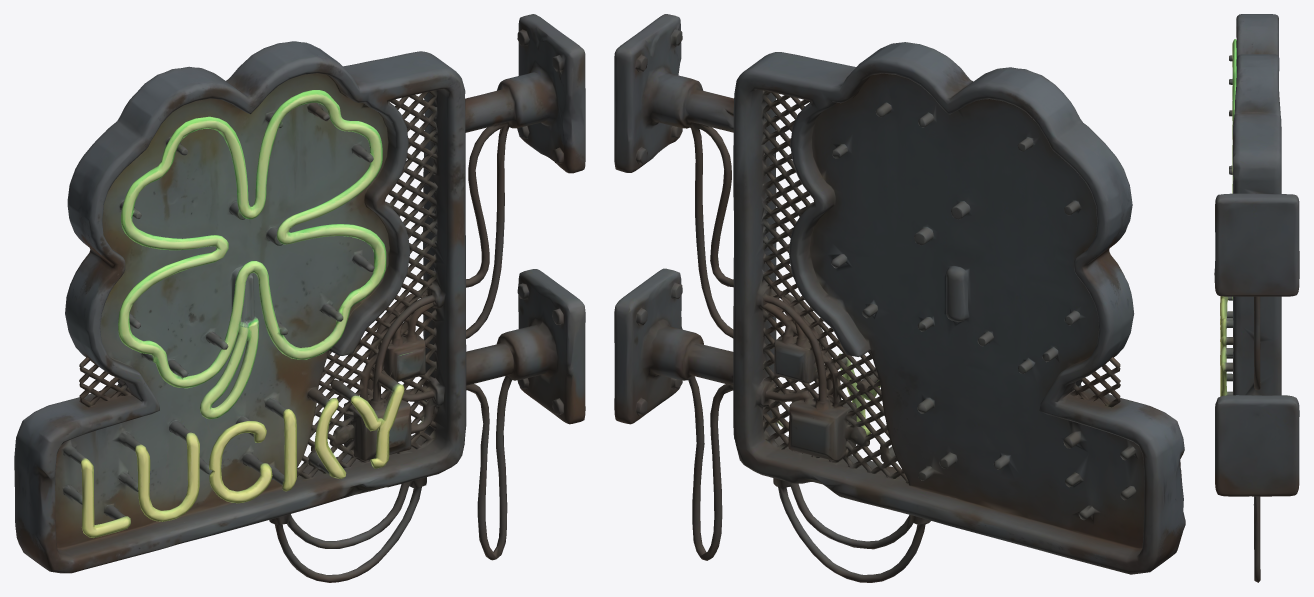
The model's file is neon_sign_clover.glb.
3 views of the same model, side by side, from view 1: azimuth 30°, elevation 25°; view 2: azimuth 150°, elevation 25°; view 3: azimuth 270°, elevation 25° (orthographic). The views are drawn at different scales.
Visible parts, largest first — view 1: tripo_node_f3366bbb-7327-4ab7-bf2a-51df1116dbb4; view 2: tripo_node_f3366bbb-7327-4ab7-bf2a-51df1116dbb4; view 3: tripo_node_f3366bbb-7327-4ab7-bf2a-51df1116dbb4.
Part boxes in pixels (box(x1,y1,x2,y2)): tripo_node_f3366bbb-7327-4ab7-bf2a-51df1116dbb4: box(14, 14, 585, 582); tripo_node_f3366bbb-7327-4ab7-bf2a-51df1116dbb4: box(614, 14, 1185, 582); tripo_node_f3366bbb-7327-4ab7-bf2a-51df1116dbb4: box(1214, 14, 1299, 582).
Size of the model in its own units: 0.9792 by 0.9759 by 0.1698.
Materials: 1 (1 with a texture image).
